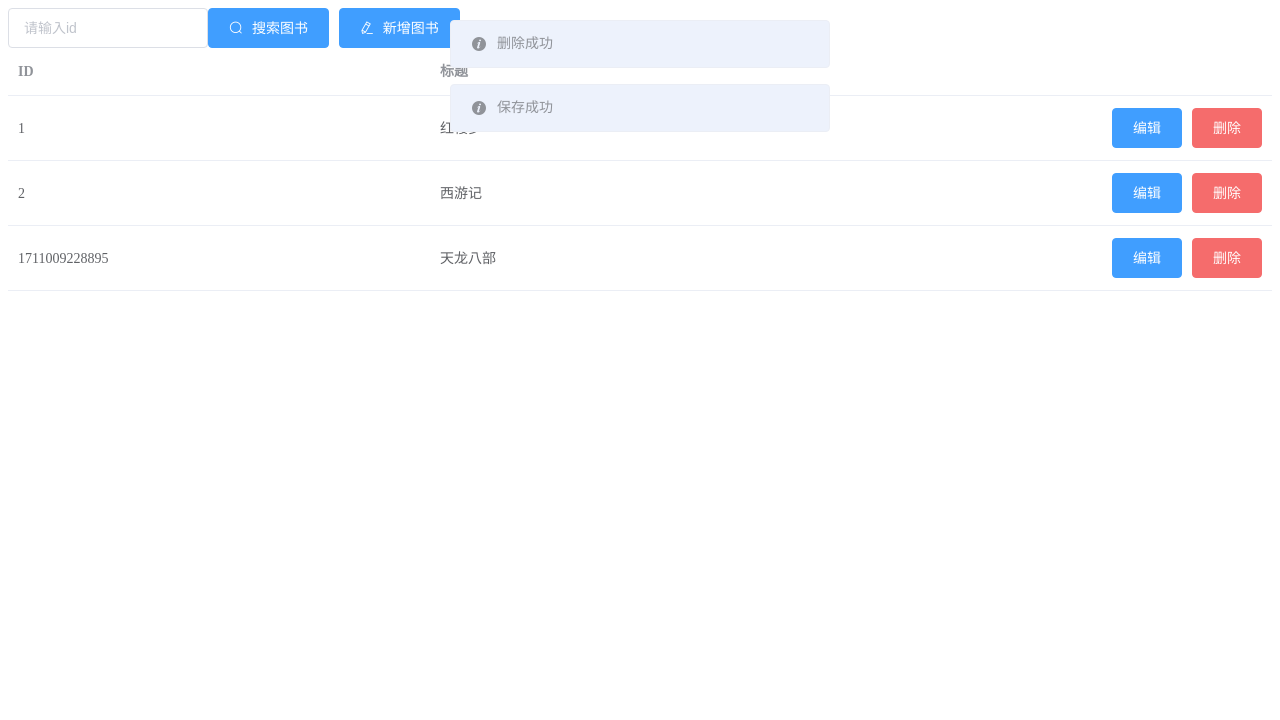
Test: 测试BookList.vue页面 › 测试修改功能
Click the button with class "edit-btn" in the row of "红楼梦" at (1147, 128), box [1112,108,1182,148]
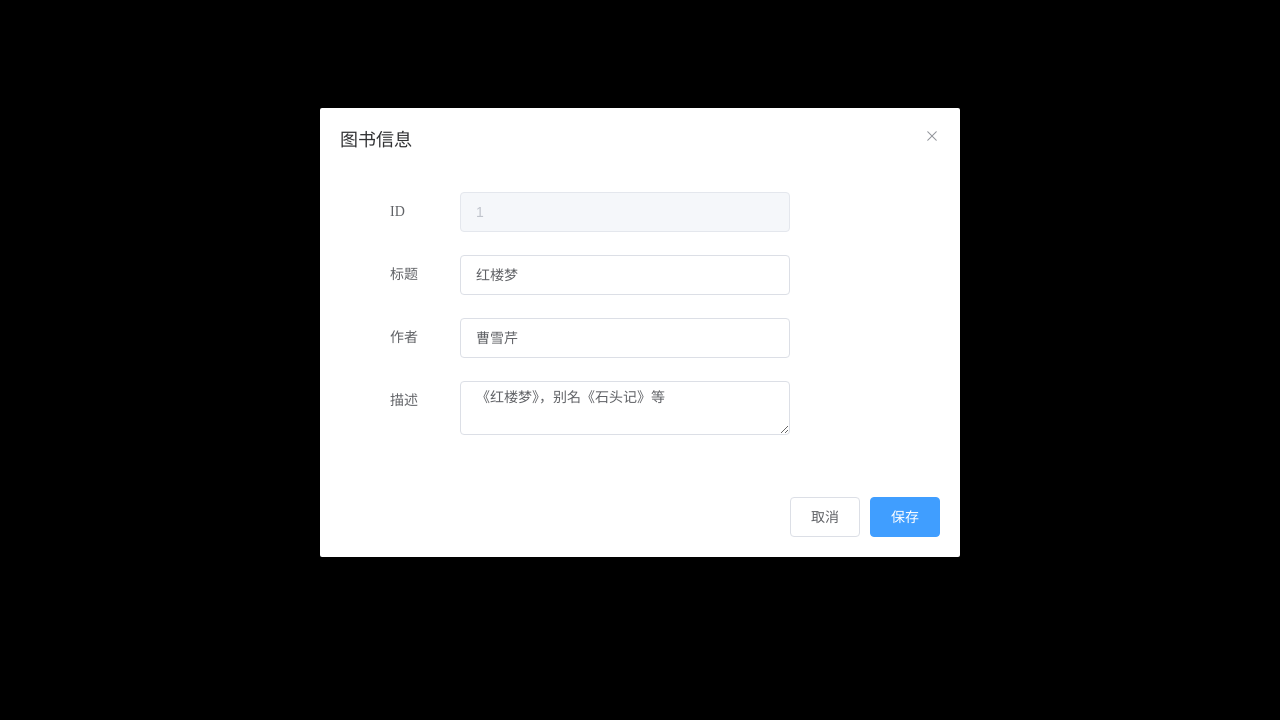
Replace the text in the 2nd field with "新红楼梦" at (625, 275), box [460,255,790,295]
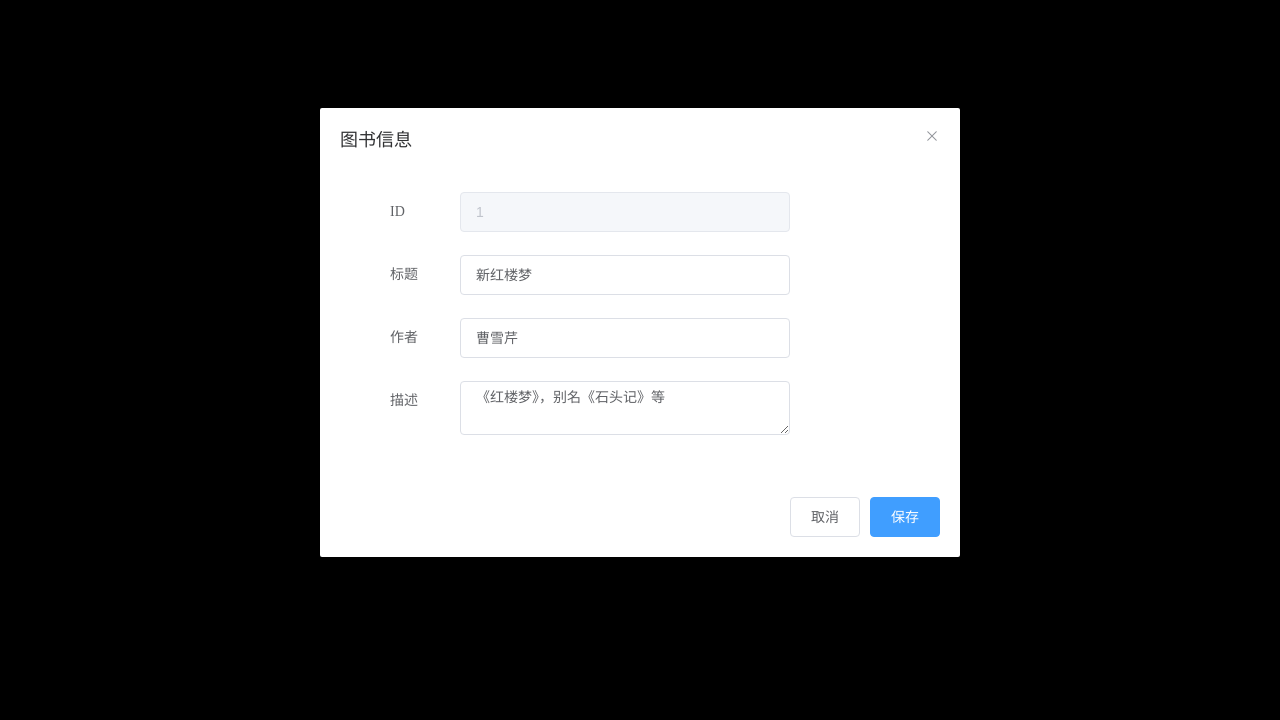
Click the button with class "save-btn" at (905, 517), box [870,497,940,537]
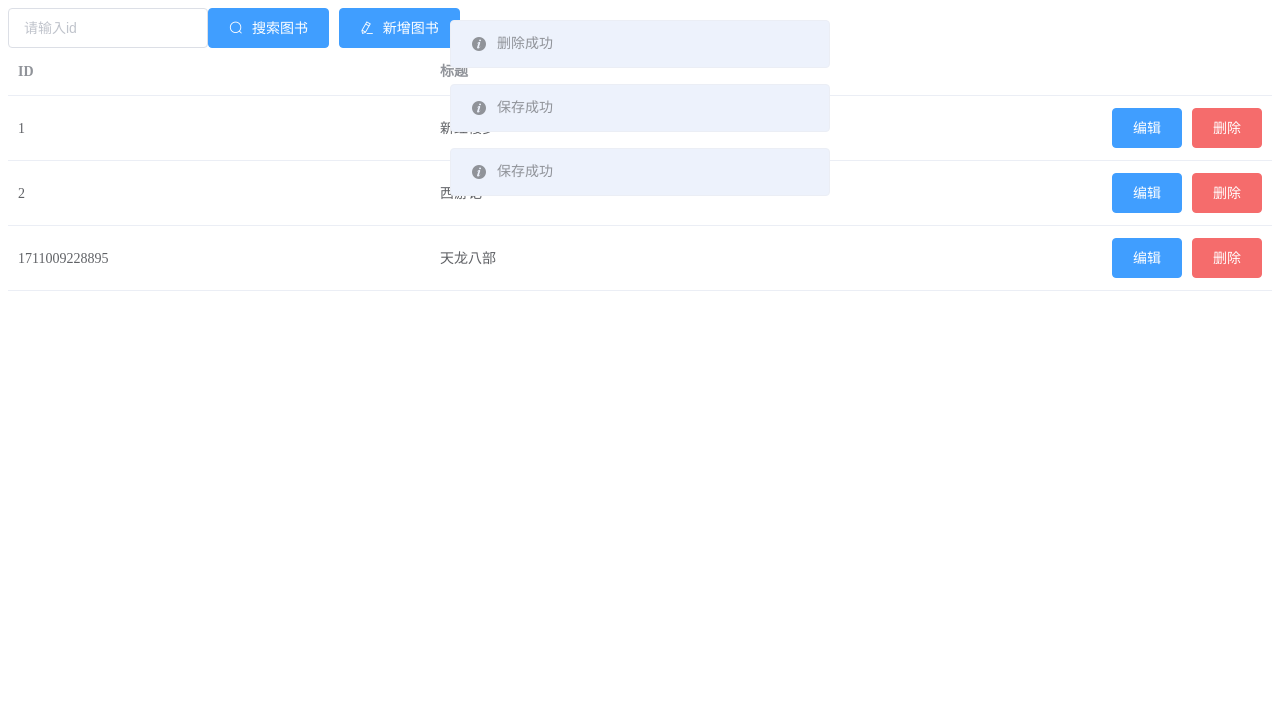
Result: the row "1 新红楼梦 编辑 删除" is shown at [8,96,1272,161]
